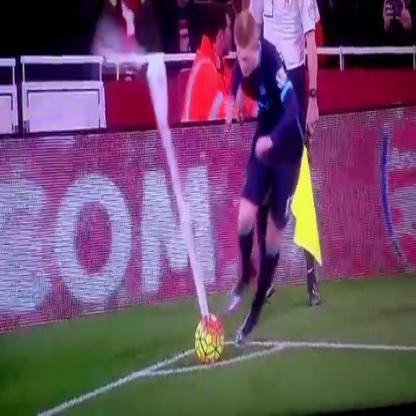corner kick: (142, 9, 307, 372)
